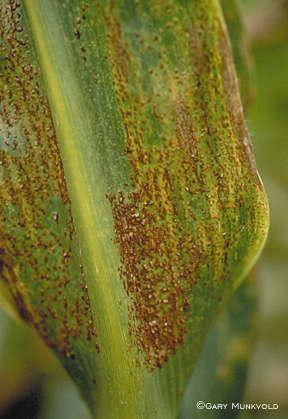Corn rust leaf: (1, 1, 277, 403)
